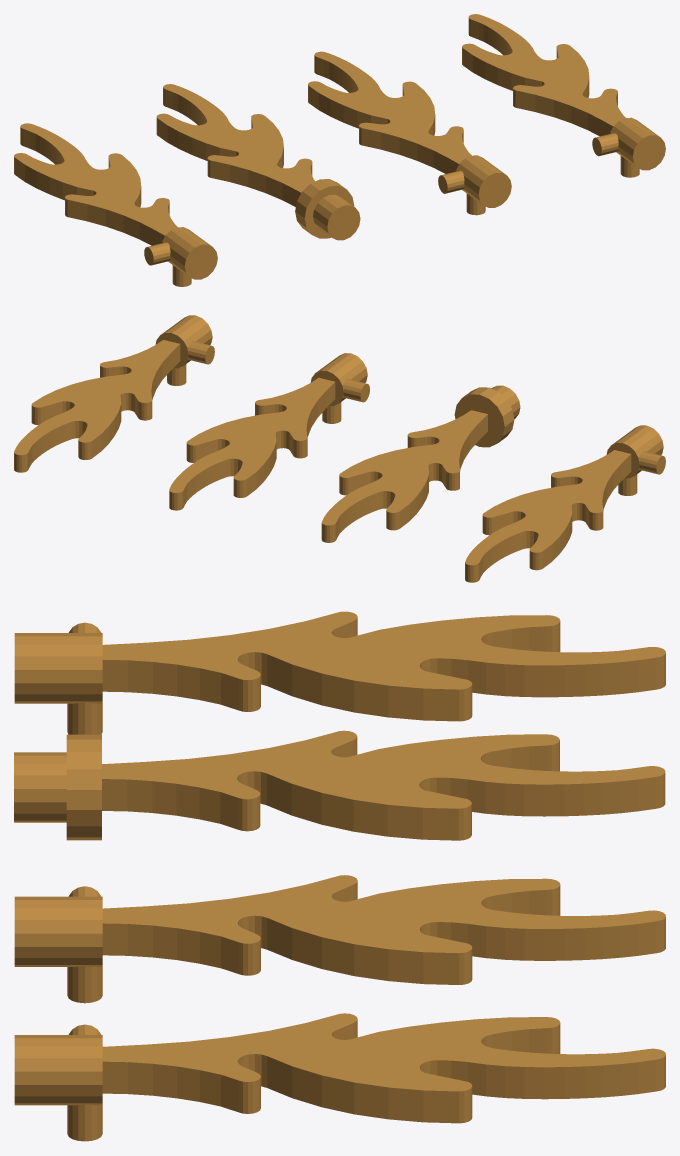
Rendered from uploads_files_877638_lego+fire.fbx.
3 renders of one model, top to bottom at view 1: azimuth 30°, elevation 25°; view 2: azimuth 150°, elevation 25°; view 3: azimuth 270°, elevation 25°, orthographic. The views are drawn at different scales.
Visible parts, largest first — view 1: Piece004, Piece005.002, Piece005, Piece005.001; view 2: Piece004, Piece005, Piece005.002, Piece005.001; view 3: Piece005.001, Piece005.002, Piece005, Piece004.
Part boxes in pixels (<box>): Piece004: <box>156,84,360,240</box>; Piece005.002: <box>462,14,665,177</box>; Piece005: <box>14,123,217,286</box>; Piece005.001: <box>308,51,511,215</box>; Piece004: <box>321,385,520,542</box>; Piece005: <box>465,425,665,582</box>; Piece005.002: <box>14,315,214,472</box>; Piece005.001: <box>169,353,369,510</box>; Piece005.001: <box>14,875,665,1003</box>; Piece005.002: <box>14,1013,665,1141</box>; Piece005: <box>14,611,665,734</box>; Piece004: <box>14,730,665,840</box>.
Bounding box in the file's own units: 129 × 15.08 × 74.05.
